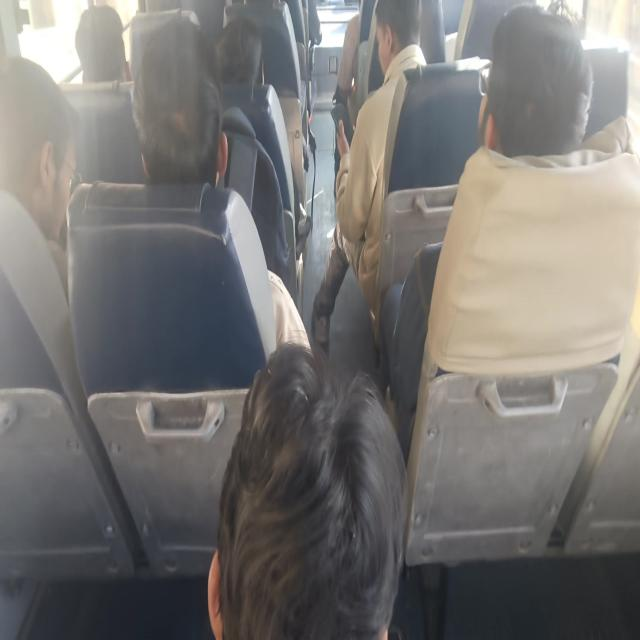person: (206, 335, 421, 640), (0, 42, 82, 236), (130, 19, 224, 179), (481, 2, 581, 149), (71, 15, 130, 89), (364, 0, 427, 67), (213, 11, 263, 85), (541, 0, 595, 38)
